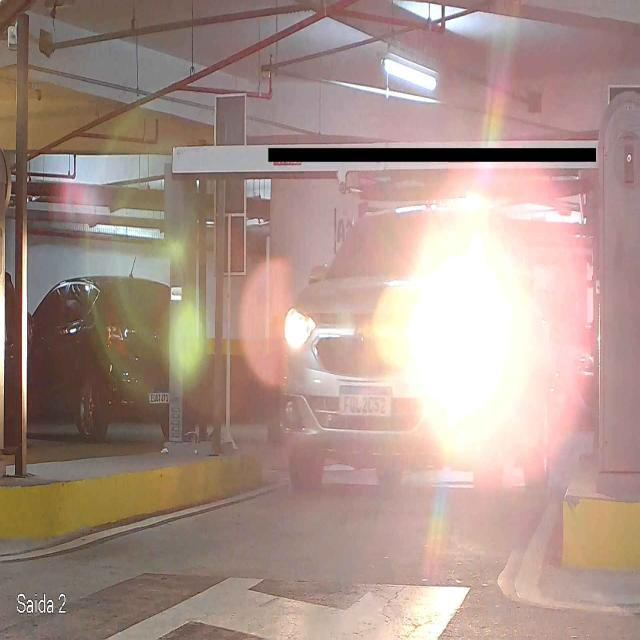mercosul_plate: (338, 383, 394, 418)
